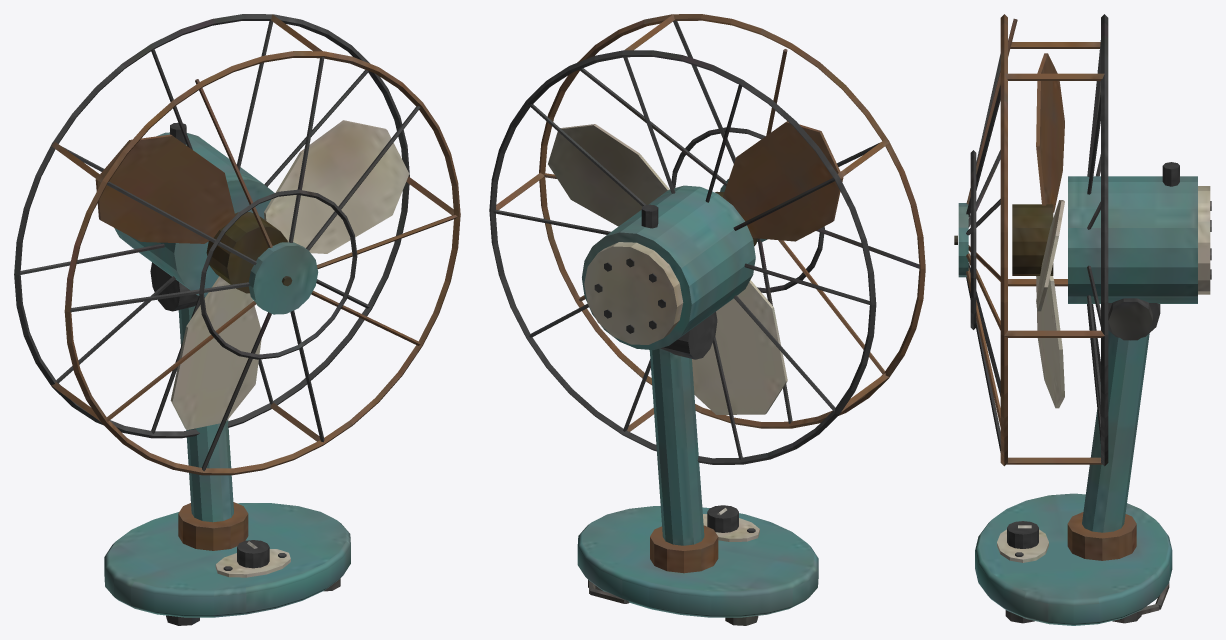
File: L17_table_fan.glb
3 views of the same model, side by side, from view 1: azimuth 30°, elevation 25°; view 2: azimuth 150°, elevation 25°; view 3: azimuth 270°, elevation 25° (orthographic). The views are drawn at different scales.
Parts seen in each view (by area): view 1: Oval weighted pedestal; view 2: Oval weighted pedestal; view 3: Oval weighted pedestal.
Part boxes in pixels (x1,y1,x2,y2): Oval weighted pedestal: [14, 14, 460, 625]; Oval weighted pedestal: [489, 14, 925, 625]; Oval weighted pedestal: [954, 14, 1211, 625].
Bounding box in the file's own units: 0.3752 × 0.5 × 0.2131.
6 materials, 6 textured.
